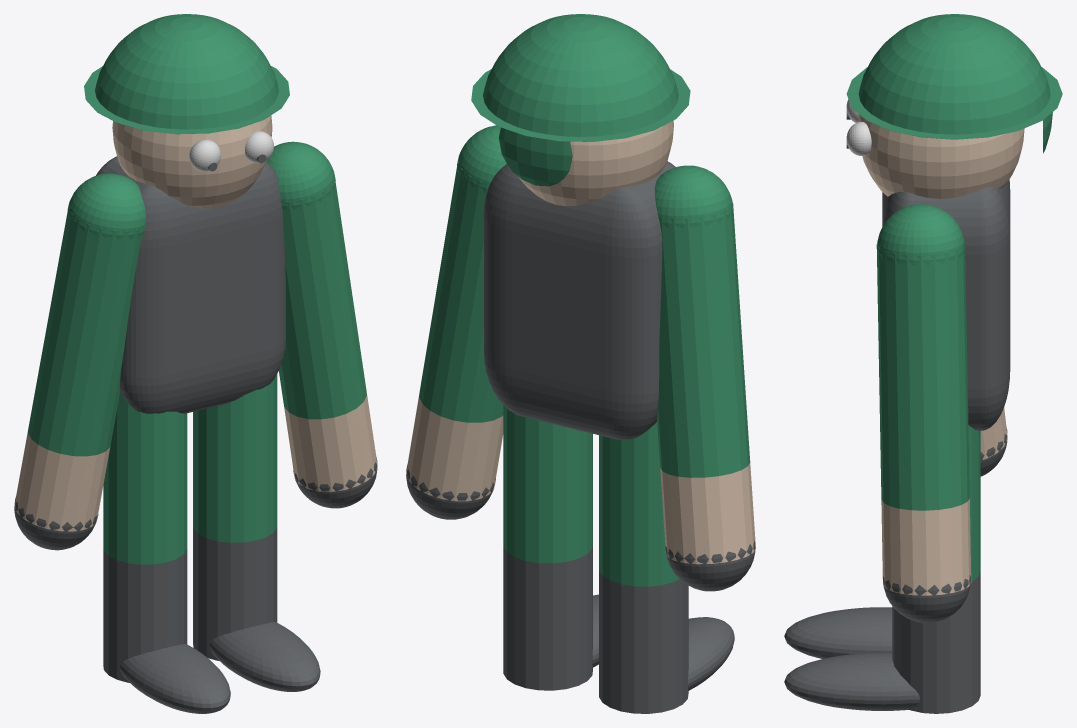
Rendered from solider.glb.
The picture shows the model from 3 angles, left to right: view 1: azimuth 30°, elevation 25°; view 2: azimuth 150°, elevation 25°; view 3: azimuth 270°, elevation 25°; orthographic projection. The views are drawn at different scales.
Parts seen in each view (by area): view 1: Mesh_Mesh_head_geo.001_lambert2SG.001; view 2: Mesh_Mesh_head_geo.001_lambert2SG.001; view 3: Mesh_Mesh_head_geo.001_lambert2SG.001.
Part boxes in pixels (x1=…): Mesh_Mesh_head_geo.001_lambert2SG.001: x1=14, y1=14, x2=377, y2=713; Mesh_Mesh_head_geo.001_lambert2SG.001: x1=406, y1=14, x2=755, y2=713; Mesh_Mesh_head_geo.001_lambert2SG.001: x1=784, y1=14, x2=1062, y2=713.
Size of the model in its own units: 41.05 by 74.27 by 28.35.
